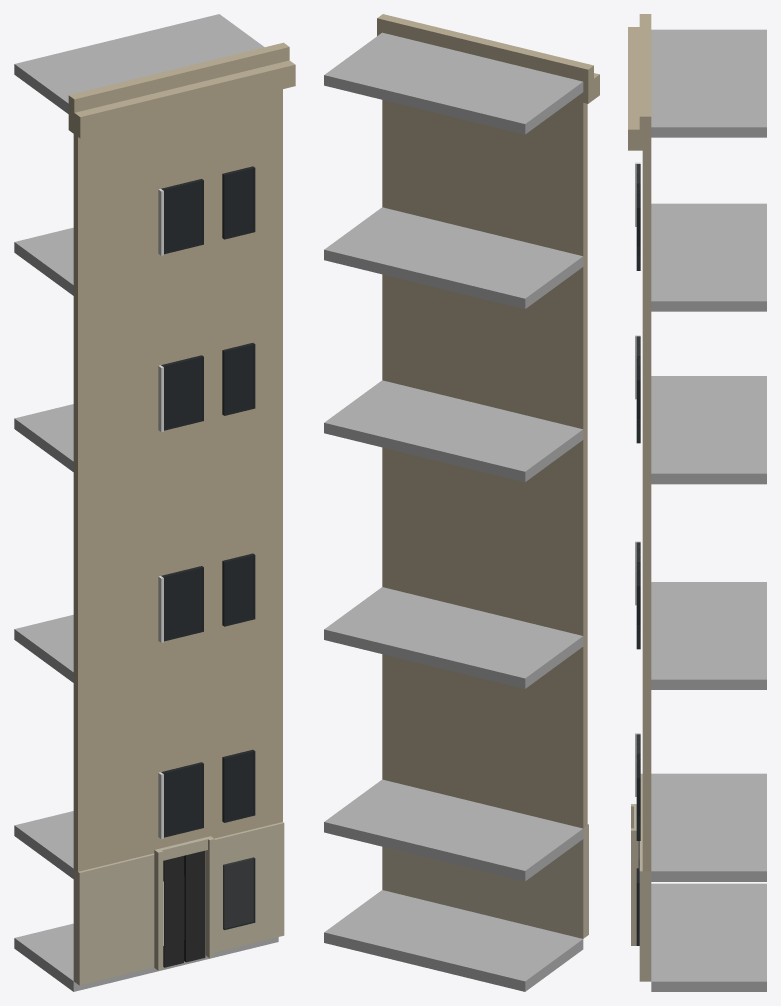
The model's file is barclay_hero_mobile.glb.
3 views of the same model, side by side, from view 1: azimuth 30°, elevation 25°; view 2: azimuth 150°, elevation 25°; view 3: azimuth 270°, elevation 25° (orthographic). The views are drawn at different scales.
Visible parts, largest first — view 1: Facade_upper, Facade_01, Floor_05, Window_01_glass, HERO_cornice, Window_03_glass, Window_04_glass, Window_02_glass, Parapet, Floor_00, Door_entrance_frame, Floor_04 (+5 smaller); view 2: Facade_upper, Floor_01, Floor_03, Floor_04, Floor_02, Floor_00, Floor_05, Facade_01, Parapet; view 3: Floor_00, Floor_01, Floor_03, Floor_04, Floor_05, Floor_02, Facade_upper, Facade_01, HERO_cornice, Parapet, Door_entrance_frame, Window_01_glass (+3 smaller).
Part boxes in pixels (x1,y1,x2,y2): Facade_upper: [73, 89, 282, 871]; Facade_01: [73, 822, 284, 985]; Floor_05: [14, 14, 264, 113]; Window_01_glass: [161, 749, 255, 939]; HERO_cornice: [68, 60, 295, 138]; Window_03_glass: [161, 343, 255, 430]; Window_04_glass: [161, 166, 255, 254]; Window_02_glass: [161, 553, 255, 641]; Parapet: [68, 42, 289, 112]; Floor_00: [14, 923, 278, 991]; Door_entrance_frame: [154, 836, 214, 970]; Floor_04: [14, 227, 73, 295]; Facade_upper: [382, 92, 587, 828]; Floor_01: [324, 779, 583, 881]; Floor_03: [324, 380, 583, 482]; Floor_04: [324, 207, 583, 308]; Floor_02: [324, 587, 583, 688]; Floor_00: [324, 890, 583, 991]; Floor_05: [324, 32, 583, 134]; Facade_01: [382, 824, 588, 938]; Parapet: [377, 14, 593, 82]; Floor_00: [651, 883, 766, 991]; Floor_01: [651, 773, 766, 881]; Floor_03: [651, 376, 766, 484]; Floor_04: [651, 203, 766, 311]; Floor_05: [651, 29, 766, 137]; Floor_02: [651, 582, 766, 689]; Facade_upper: [642, 150, 651, 871]; Facade_01: [639, 773, 651, 981]; HERO_cornice: [628, 27, 651, 150]; Parapet: [639, 14, 651, 129]; Door_entrance_frame: [631, 804, 638, 945]; Window_01_glass: [636, 734, 640, 945].
Bounding box in the file's own units: 4.2 × 16.75 × 2.4.
